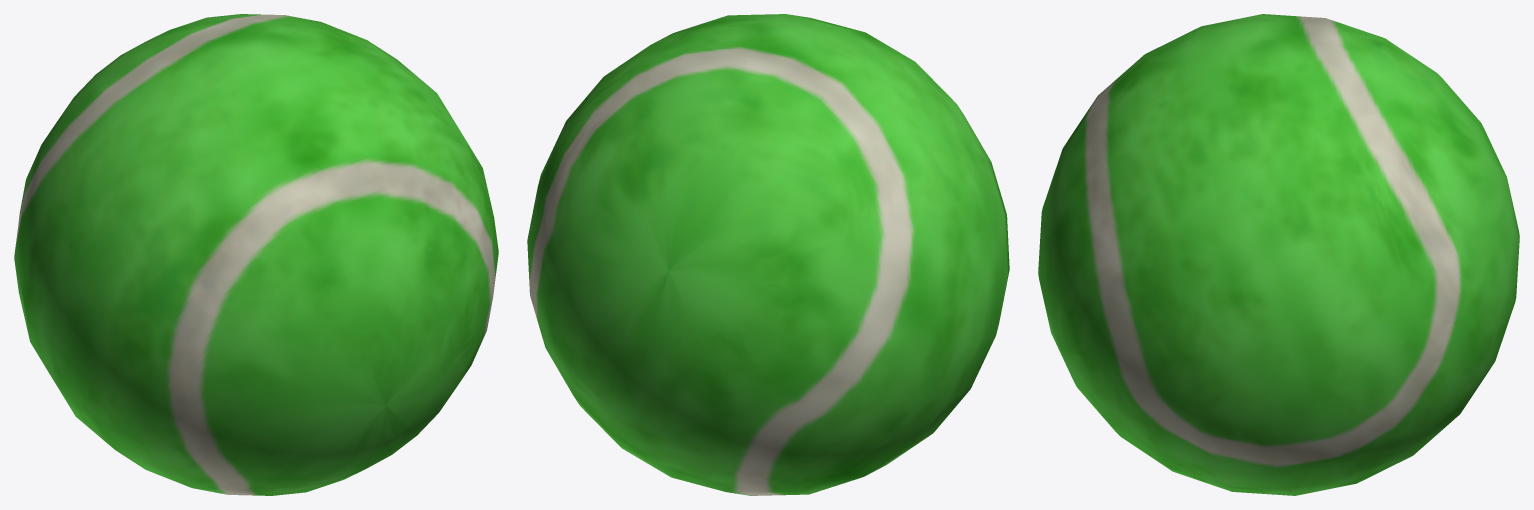
File: ball.dae
3 views of the same model, side by side, from view 1: azimuth 30°, elevation 25°; view 2: azimuth 150°, elevation 25°; view 3: azimuth 270°, elevation 25° (orthographic).
Parts seen in each view (by area): view 1: Sphere01; view 2: Sphere01; view 3: Sphere01.
Boxes of the visible parts, x1,y1,x2,y2 form: Sphere01: (14, 14, 498, 495); Sphere01: (527, 14, 1009, 495); Sphere01: (1038, 14, 1519, 495).
Bounding box in the file's own units: 0.9925 × 0.9971 × 0.9952.
1 material, 1 textured.
